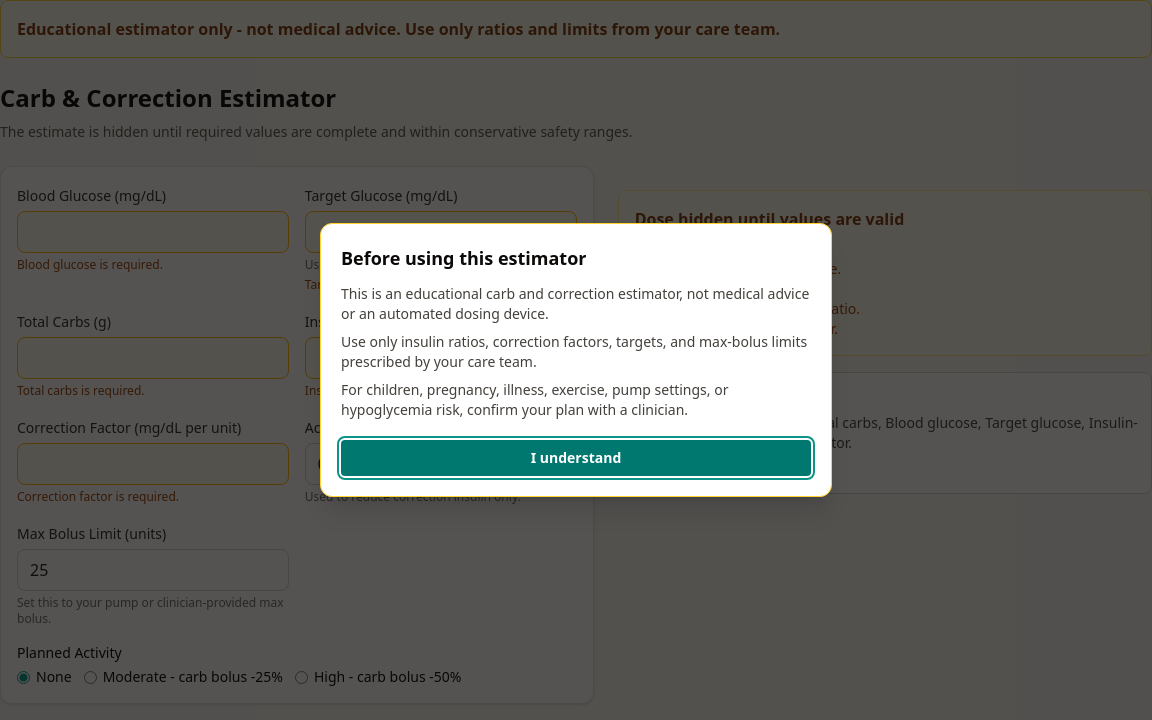
Test: InsulinHelper acknowledgement › announces when the dose is suppressed and when it becomes visible
Click the button "I understand" at (576, 458), box [341,440,811,476]
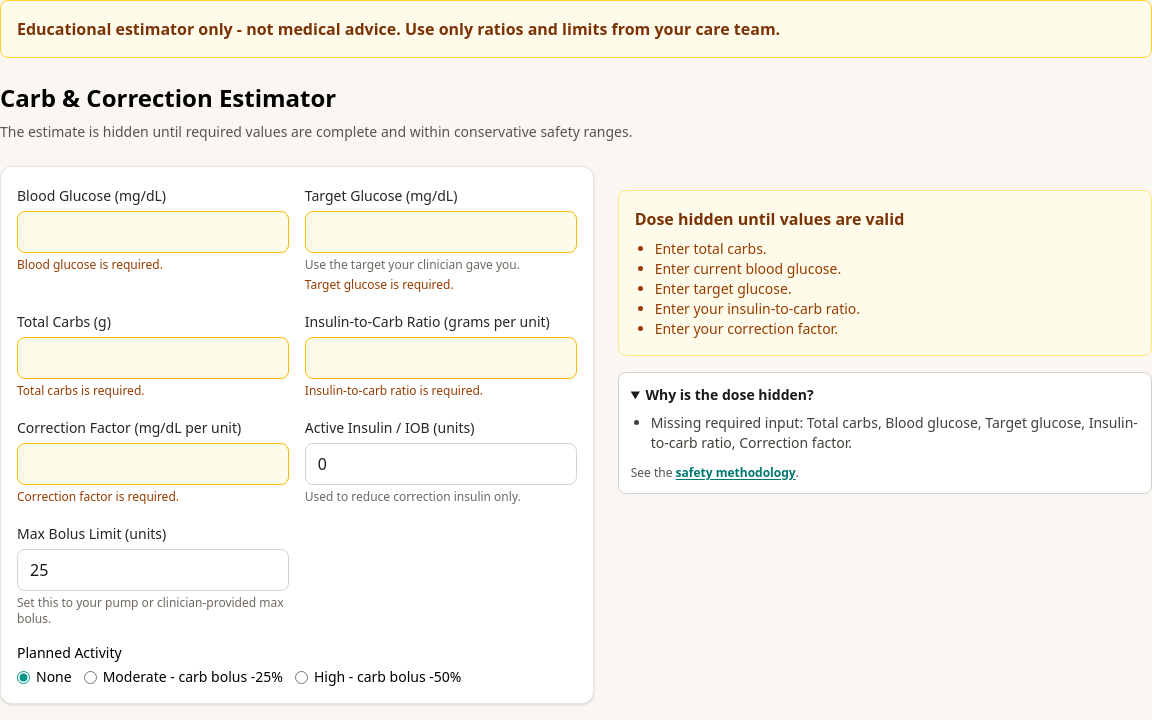
Type "150" into the number field labelled "Blood Glucose (mg/dL)" at (153, 232), box [17,211,289,253]
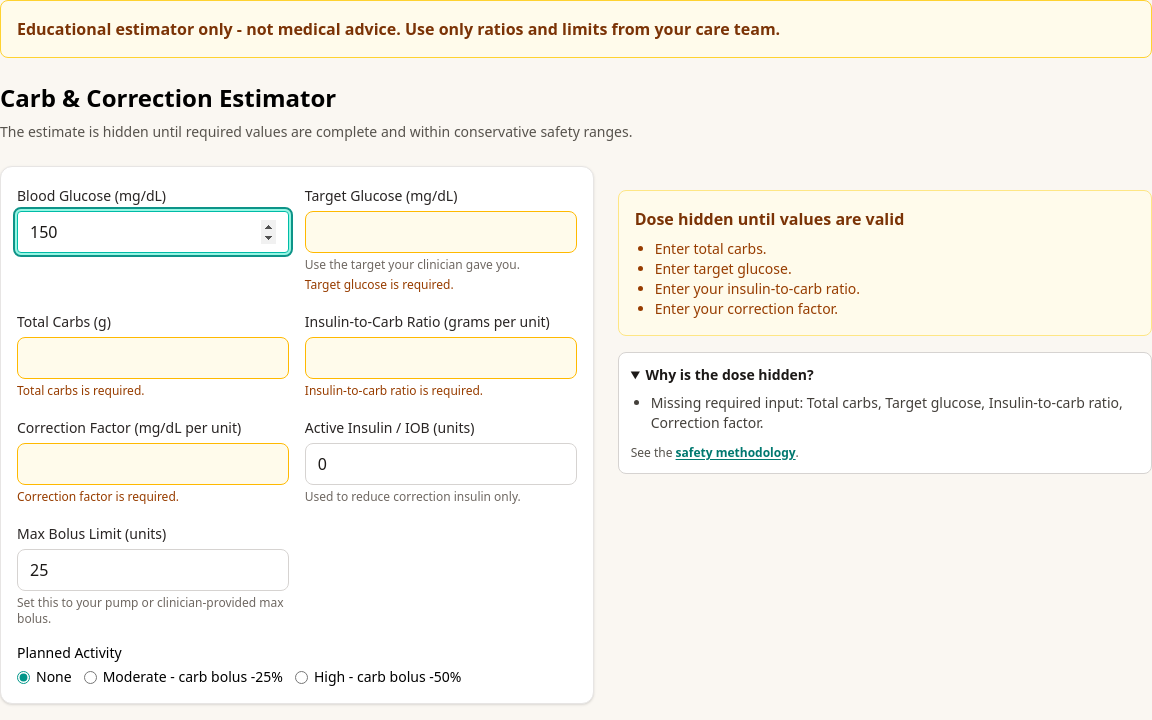
Type "110" into the number field labelled "Target Glucose (mg/dL)" at (441, 232), box [305,211,577,253]
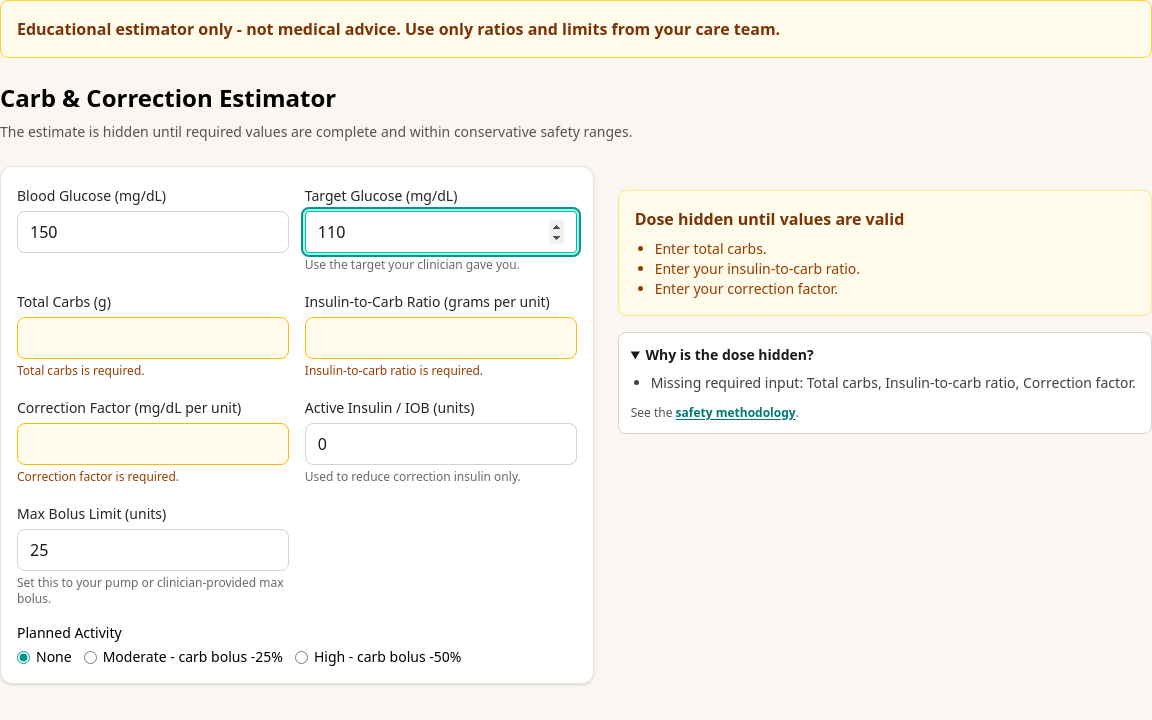
Type "45" into the number field labelled "Total Carbs (g)" at (153, 338), box [17,317,289,359]
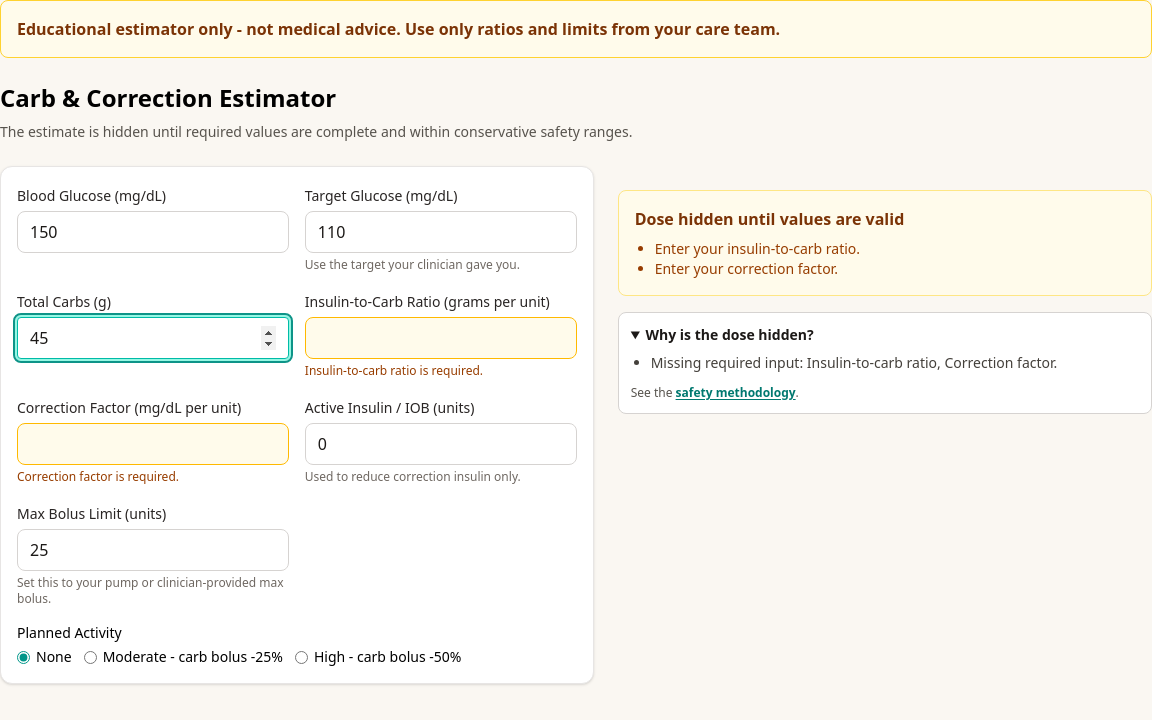
Type "15" into the number field labelled "Insulin-to-Carb Ratio (grams per unit)" at (441, 338), box [305,317,577,359]
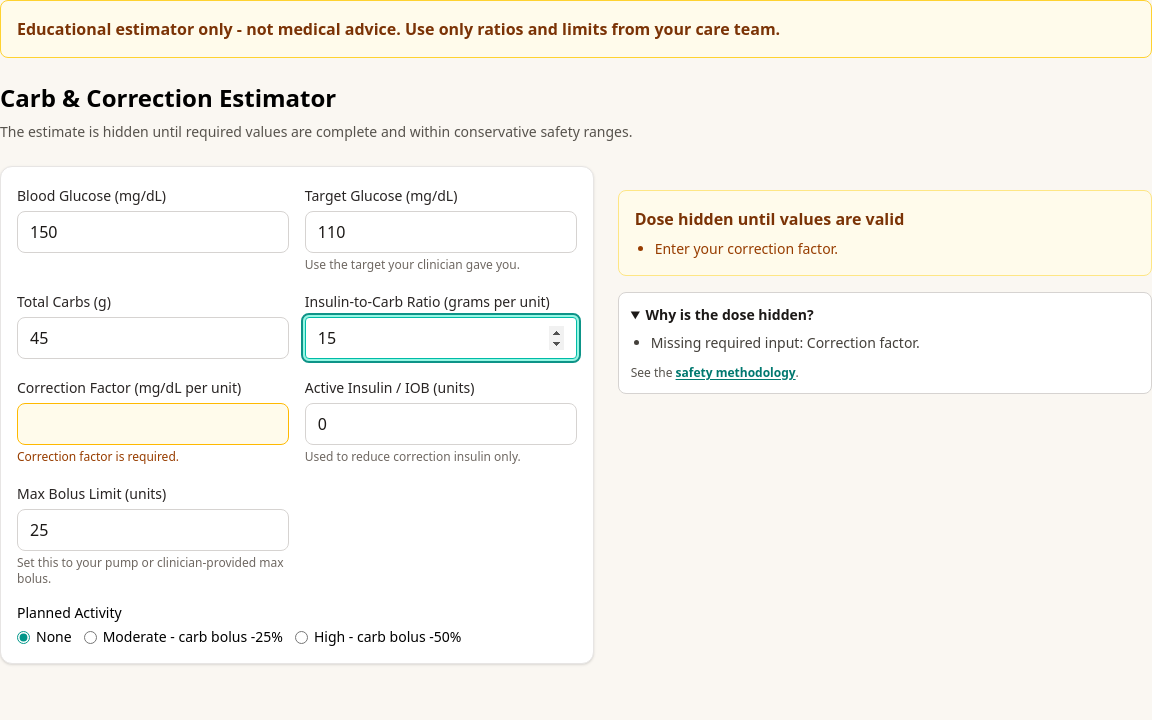
Type "50" into the number field labelled "Correction Factor (mg/dL per unit)" at (153, 424), box [17,403,289,445]
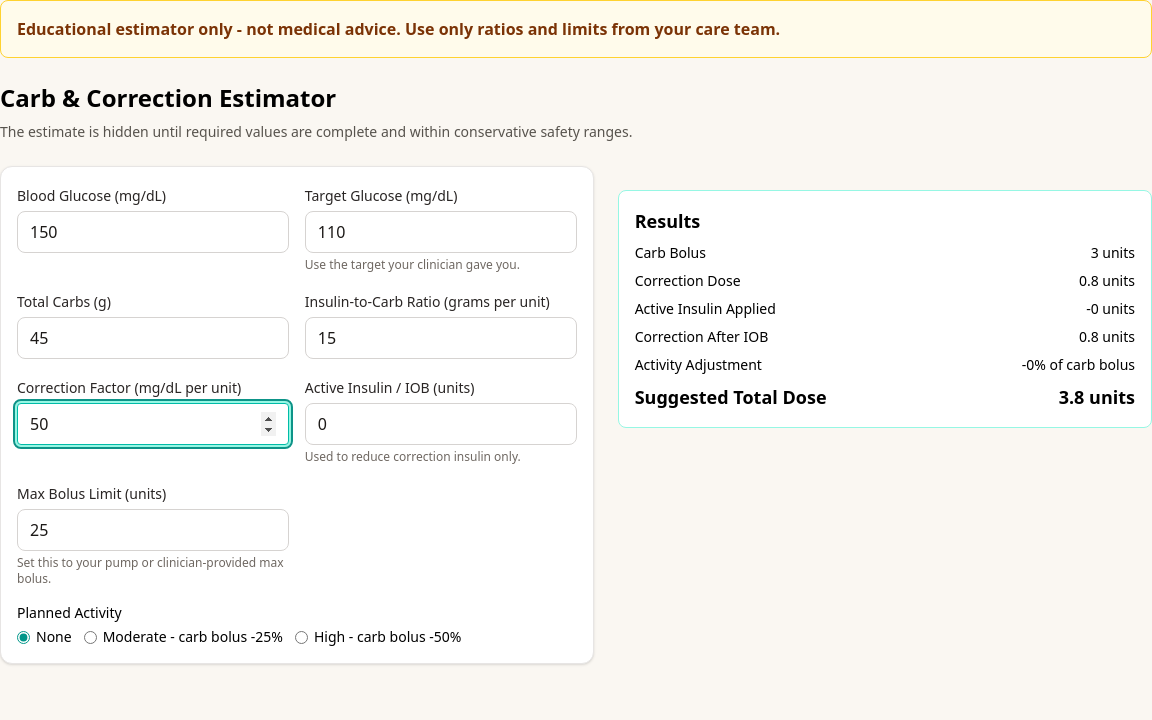
Expected: the text "Suggested Total Dose" is shown, [635,383,826,411]
